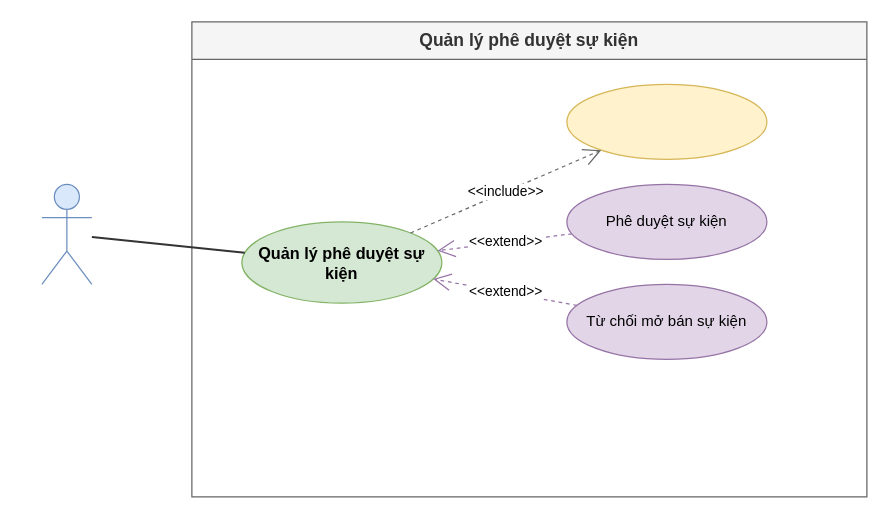
This 889x519 diagram has some shape labels left out. The shapes that lost their labels are listed below. From the top down, each one's centre as x and y in pixels, then its label:
At [666,121]: "Xem danh sách sự kiện chờ".
At [66,233]: "Quản trị viên".
